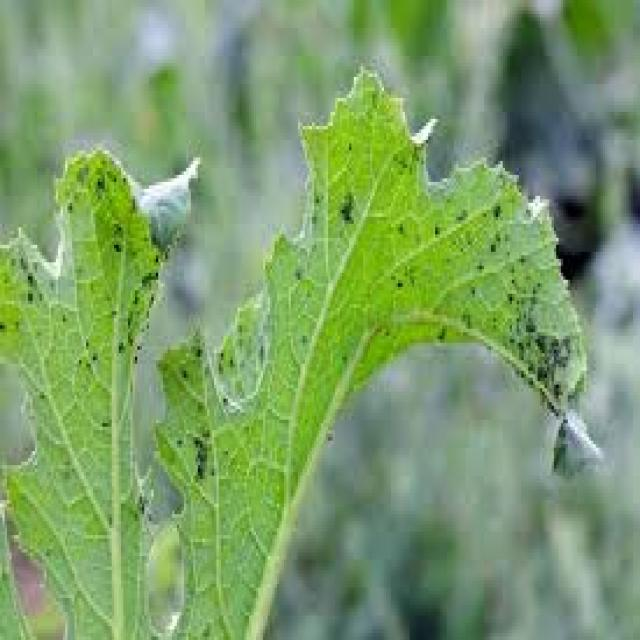black-spot: (512, 316, 602, 489), (76, 177, 157, 327)
